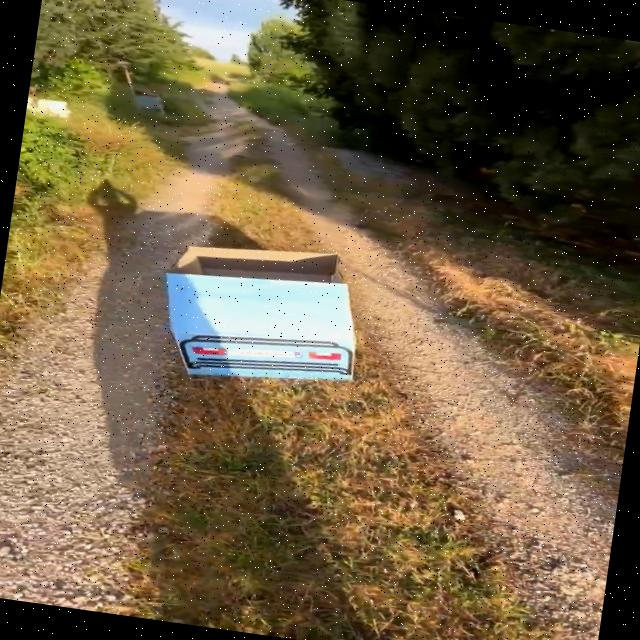blue_car: (131, 210, 430, 421)
